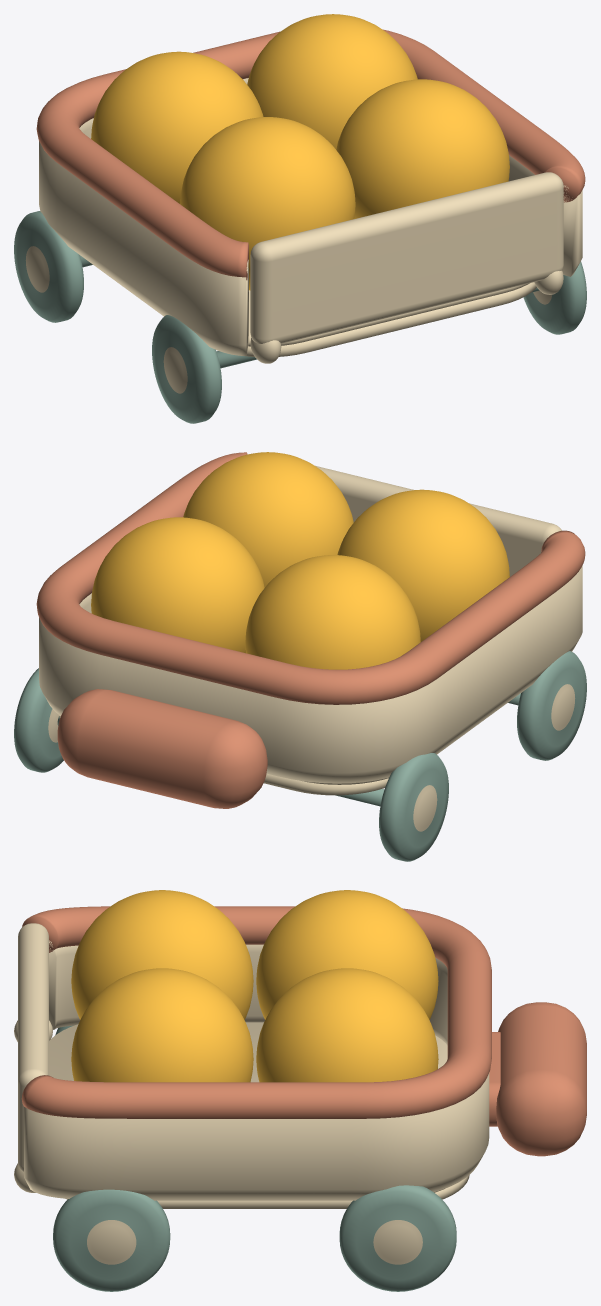
File: food_cart_v02_display.glb
3 views of the same model, one above another, from view 1: azimuth 30°, elevation 25°; view 2: azimuth 150°, elevation 25°; view 3: azimuth 270°, elevation 25° (orthographic). The views are drawn at different scales.
Parts seen in each view (by area): view 1: Gate, Tray_Rim, Tray_Wall, Display_Food_02, Display_Food_01, Display_Food_03, Display_Food_04, Wheel_RL, Wheel_FL, Chassis, Wheel_FR, Tray (+1 smaller); view 2: Tray_Wall, Tray_Rim, PushPad, Display_Food_04, Display_Food_03, Display_Food_01, Display_Food_02, Wheel_RL, Wheel_FL, Gate, Wheel_RR, Chassis; view 3: Tray_Wall, Tray_Rim, Display_Food_02, Display_Food_04, Display_Food_01, Display_Food_03, PushPad, Wheel_RR, Wheel_FR, Gate, Chassis, Tray (+1 smaller).
Boxes of the visible parts, box(x1,y1,x2,y2) form: Gate: box(250, 172, 563, 343); Tray_Rim: box(36, 29, 585, 280); Tray_Wall: box(39, 78, 582, 355); Display_Food_02: box(336, 79, 509, 218); Display_Food_01: box(180, 117, 355, 290); Display_Food_03: box(91, 51, 263, 203); Display_Food_04: box(247, 14, 417, 149); Wheel_RL: box(14, 211, 83, 322); Wheel_FL: box(152, 315, 221, 423); Chassis: box(245, 282, 536, 356); Wheel_FR: box(523, 261, 586, 334); Tray: box(248, 283, 529, 346); Tray_Wall: box(39, 565, 582, 783); Tray_Rim: box(36, 452, 585, 704); PushPad: box(57, 689, 267, 808); Display_Food_04: box(91, 517, 264, 653); Display_Food_03: box(245, 555, 420, 669); Display_Food_01: box(337, 489, 509, 641); Display_Food_02: box(183, 452, 353, 587); Wheel_RL: box(379, 753, 448, 861); Wheel_FL: box(517, 651, 586, 760); Gate: box(315, 465, 561, 576); Wheel_RR: box(14, 668, 63, 772); Chassis: box(59, 715, 388, 795); Tray_Wall: box(24, 940, 489, 1200); Tray_Rim: box(21, 906, 491, 1118); Display_Food_02: box(71, 968, 253, 1082); Display_Food_04: box(256, 968, 438, 1082); Display_Food_01: box(71, 890, 253, 1019); Display_Food_03: box(256, 890, 438, 1019); PushPad: box(496, 1002, 586, 1156); Wheel_RR: box(339, 1185, 456, 1291); Wheel_FR: box(53, 1189, 170, 1291); Gate: box(18, 923, 48, 1171); Chassis: box(65, 1175, 469, 1208); Tray: box(49, 1022, 447, 1192).
Size of the model in its own units: 1.8 by 1.1 by 2.2.
